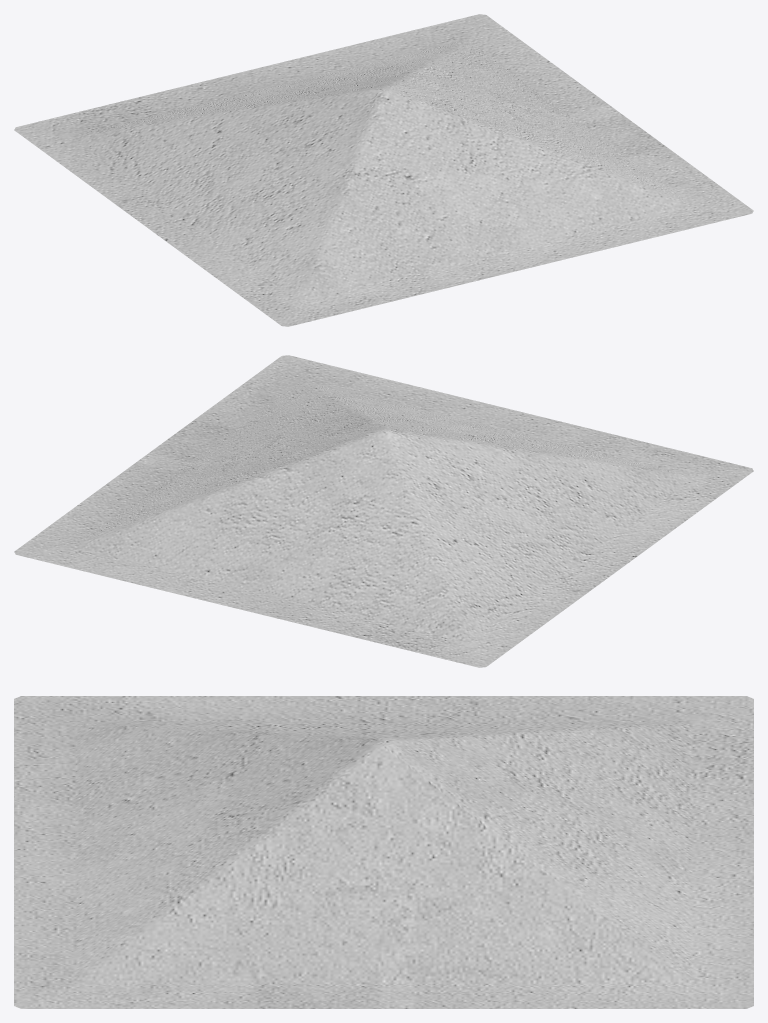
File: WC_SquareRoof.fbx
3 views of the same model, one above another, from view 1: azimuth 30°, elevation 25°; view 2: azimuth 150°, elevation 25°; view 3: azimuth 270°, elevation 25° (orthographic). The views are drawn at different scales.
Parts seen in each view (by area): view 1: WC_RoofEnd.001; view 2: WC_RoofEnd.001; view 3: WC_RoofEnd.001.
Boxes of the visible parts, x1,y1,x2,y2 form: WC_RoofEnd.001: [14, 14, 753, 326]; WC_RoofEnd.001: [14, 355, 753, 667]; WC_RoofEnd.001: [14, 696, 753, 1008].
Bounding box in the file's own units: 1166 × 190 × 1166.
